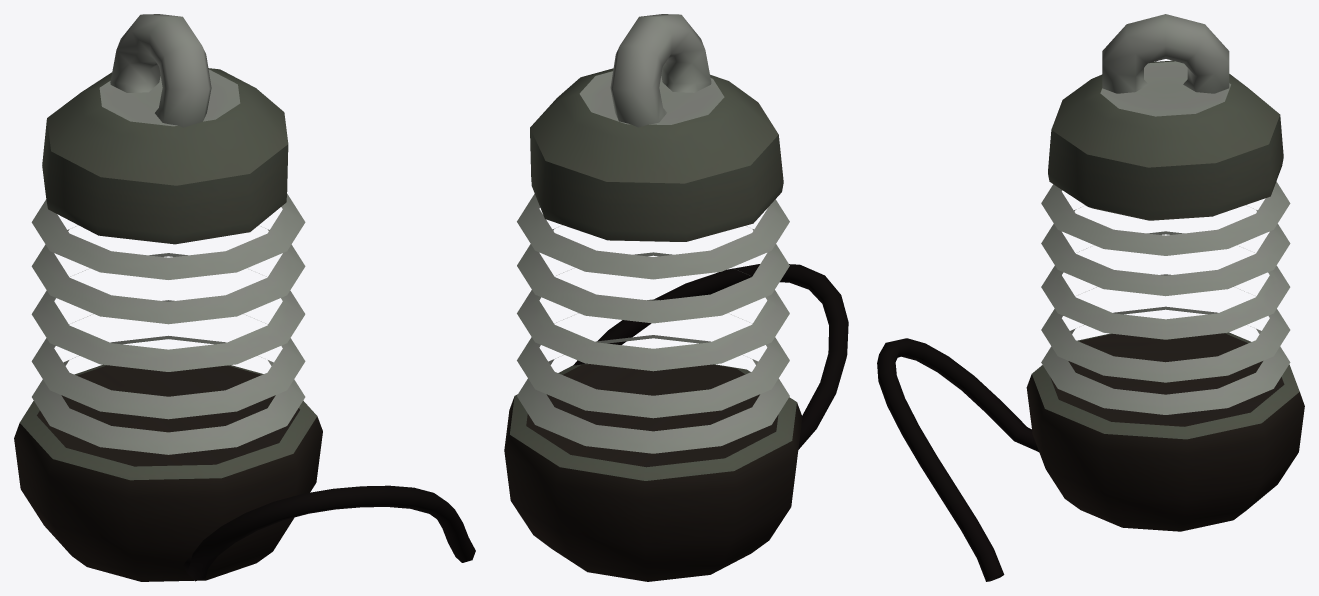
File: BugZapper.fbx
The picture shows the model from 3 angles, left to right: view 1: azimuth 30°, elevation 25°; view 2: azimuth 150°, elevation 25°; view 3: azimuth 270°, elevation 25°; orthographic projection. The views are drawn at different scales.
Parts seen in each view (by area): view 1: BugZapper; view 2: BugZapper; view 3: BugZapper.
Part boxes in pixels (x1,y1,x2,y2): BugZapper: (14, 14, 475, 581); BugZapper: (504, 14, 848, 581); BugZapper: (877, 14, 1304, 581).
Size of the model in its own units: 143 by 208 by 169.
